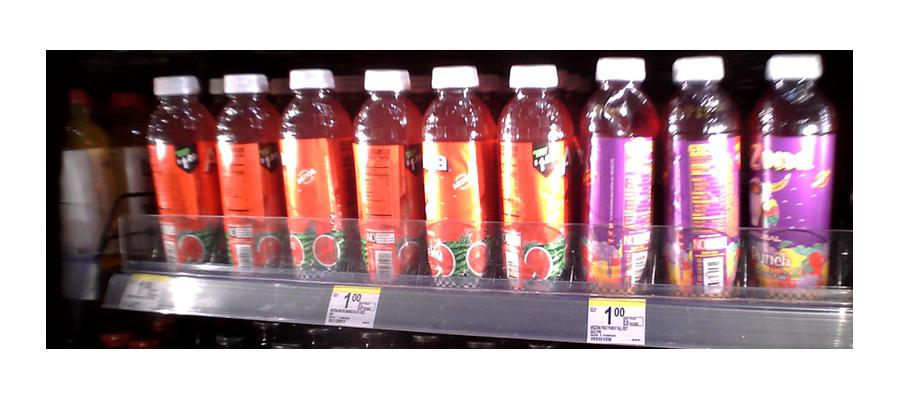bottle: (751, 58, 832, 294), (665, 57, 740, 299), (581, 57, 657, 292), (499, 67, 571, 289), (420, 67, 492, 288), (280, 67, 350, 280), (147, 69, 217, 273), (354, 69, 419, 282), (216, 70, 279, 274)
